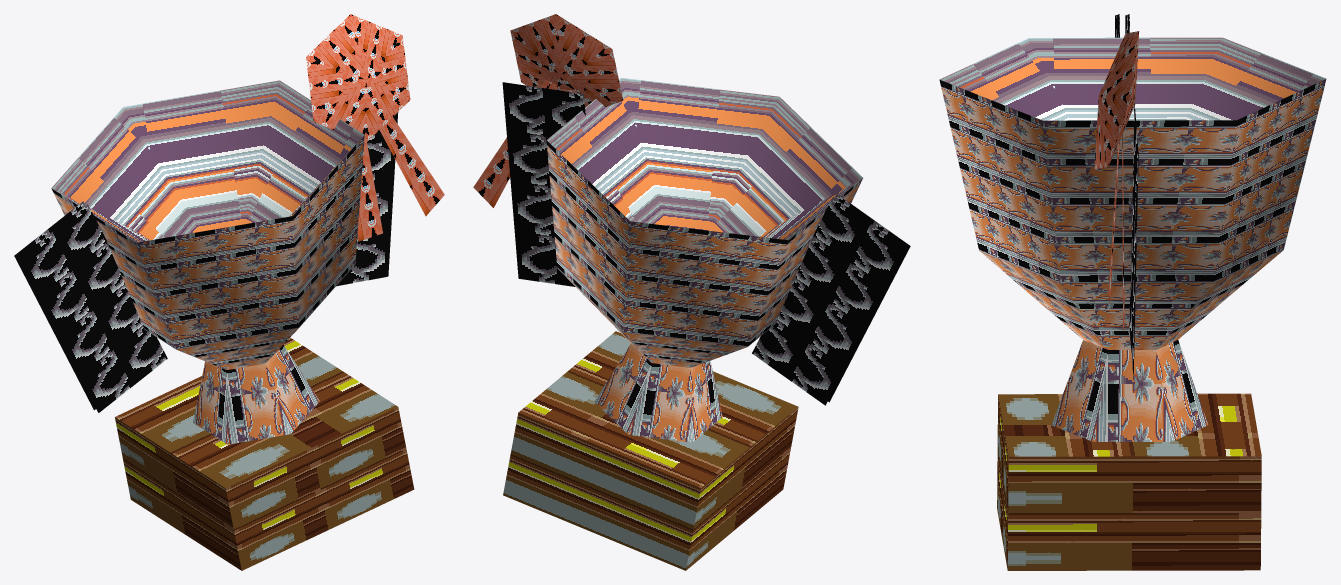
File: MGtr_03.gltf
The picture shows the model from 3 angles, left to right: view 1: azimuth 30°, elevation 25°; view 2: azimuth 150°, elevation 25°; view 3: azimuth 270°, elevation 25°; orthographic projection. The views are drawn at different scales.
Visible parts, largest first — view 1: MGtr_03; view 2: MGtr_03; view 3: MGtr_03.
Part boxes in pixels (box(x1,y1,x2,y2)): MGtr_03: box(14, 14, 444, 570); MGtr_03: box(473, 14, 910, 570); MGtr_03: box(939, 14, 1326, 570).
Bounding box in the file's own units: 0.7946 × 0.8408 × 0.5083.
4 materials, 4 textured.
